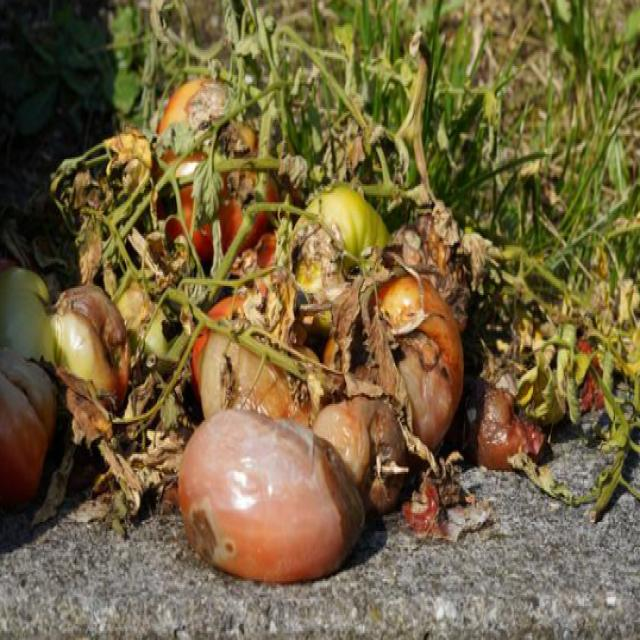paper: (176, 403, 392, 600), (345, 253, 464, 446), (176, 68, 284, 262), (290, 168, 390, 320), (43, 270, 131, 420)
